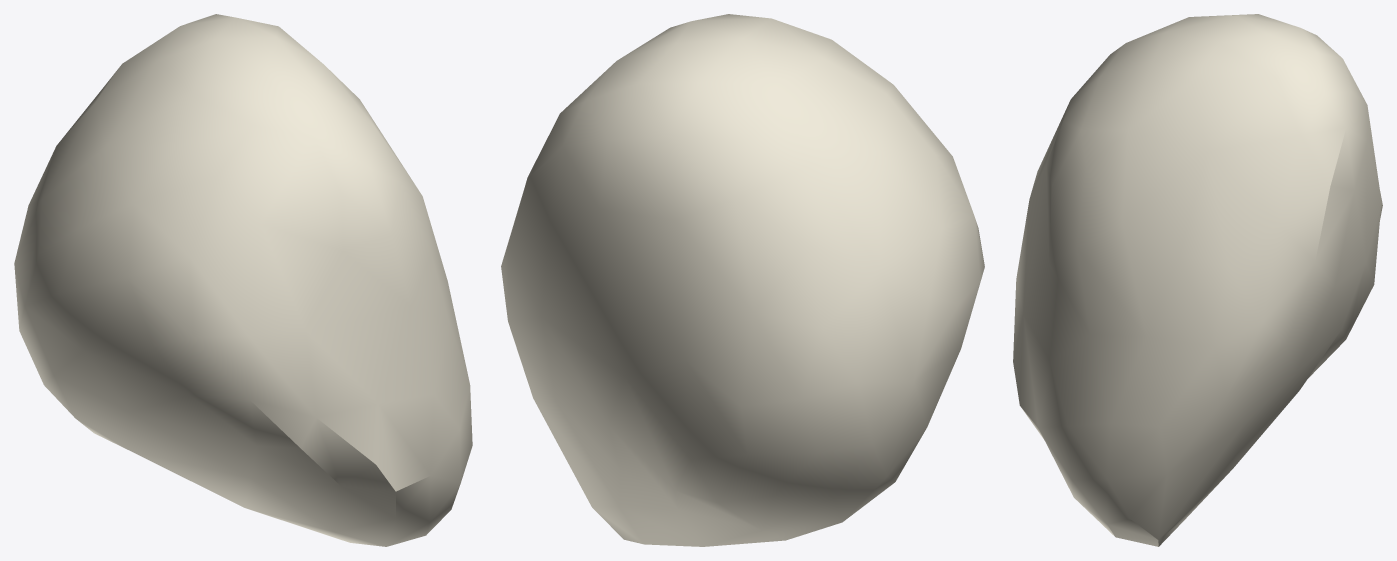
File: fma23526_mm1886m.glb
The picture shows the model from 3 angles, left to right: view 1: azimuth 30°, elevation 25°; view 2: azimuth 150°, elevation 25°; view 3: azimuth 270°, elevation 25°; orthographic projection. The views are drawn at different scales.
Visible parts, largest first — view 1: FMA23526_MM1886M; view 2: FMA23526_MM1886M; view 3: FMA23526_MM1886M.
Part boxes in pixels (left/top/right/bottom): FMA23526_MM1886M: left=14, top=14, right=472, bottom=546; FMA23526_MM1886M: left=501, top=14, right=984, bottom=546; FMA23526_MM1886M: left=1013, top=14, right=1382, bottom=546.
Bounding box in the file's own units: 0.0114 × 0.0143 × 0.0103.
